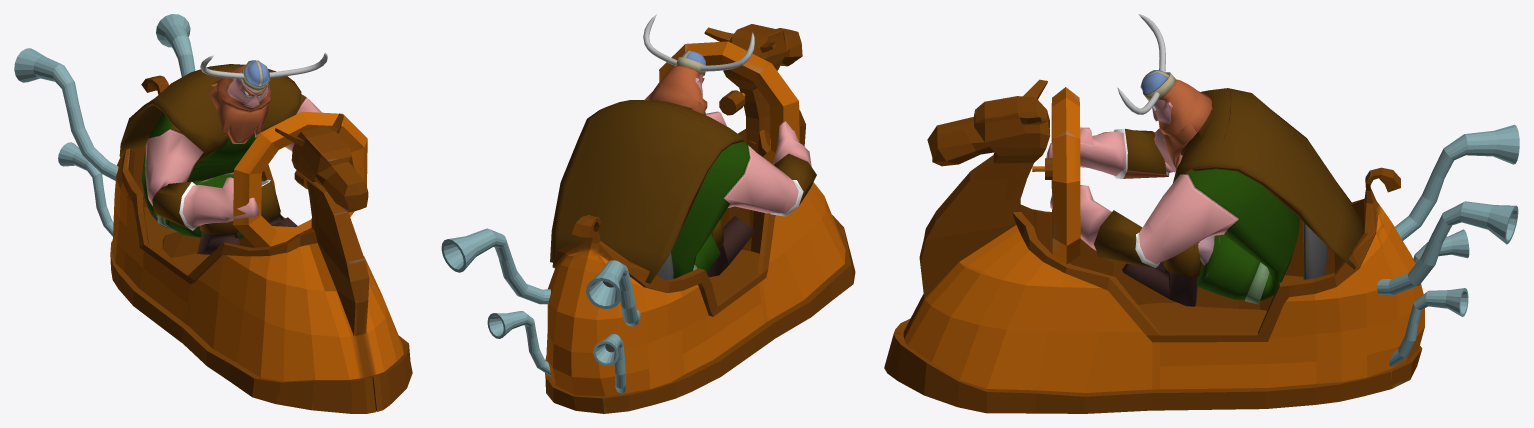
File: vikingoVacile_000439.obj
3 renders of one model, left to right at view 1: azimuth 30°, elevation 25°; view 2: azimuth 150°, elevation 25°; view 3: azimuth 270°, elevation 25°, orthographic. The views are drawn at different scales.
Visible parts, largest first — view 1: kartVikingo, Vikingo; view 2: kartVikingo, Vikingo; view 3: kartVikingo, Vikingo.
Part boxes in pixels (<box>): kartVikingo: <box>14,14,412,413</box>; Vikingo: <box>119,52,327,254</box>; kartVikingo: <box>441,24,855,413</box>; Vikingo: <box>550,14,816,283</box>; kartVikingo: <box>884,79,1519,413</box>; Vikingo: <box>1046,14,1363,306</box>.
Size of the model in its own units: 4.21 by 5.88 by 10.31.
2 materials, 2 textured.
